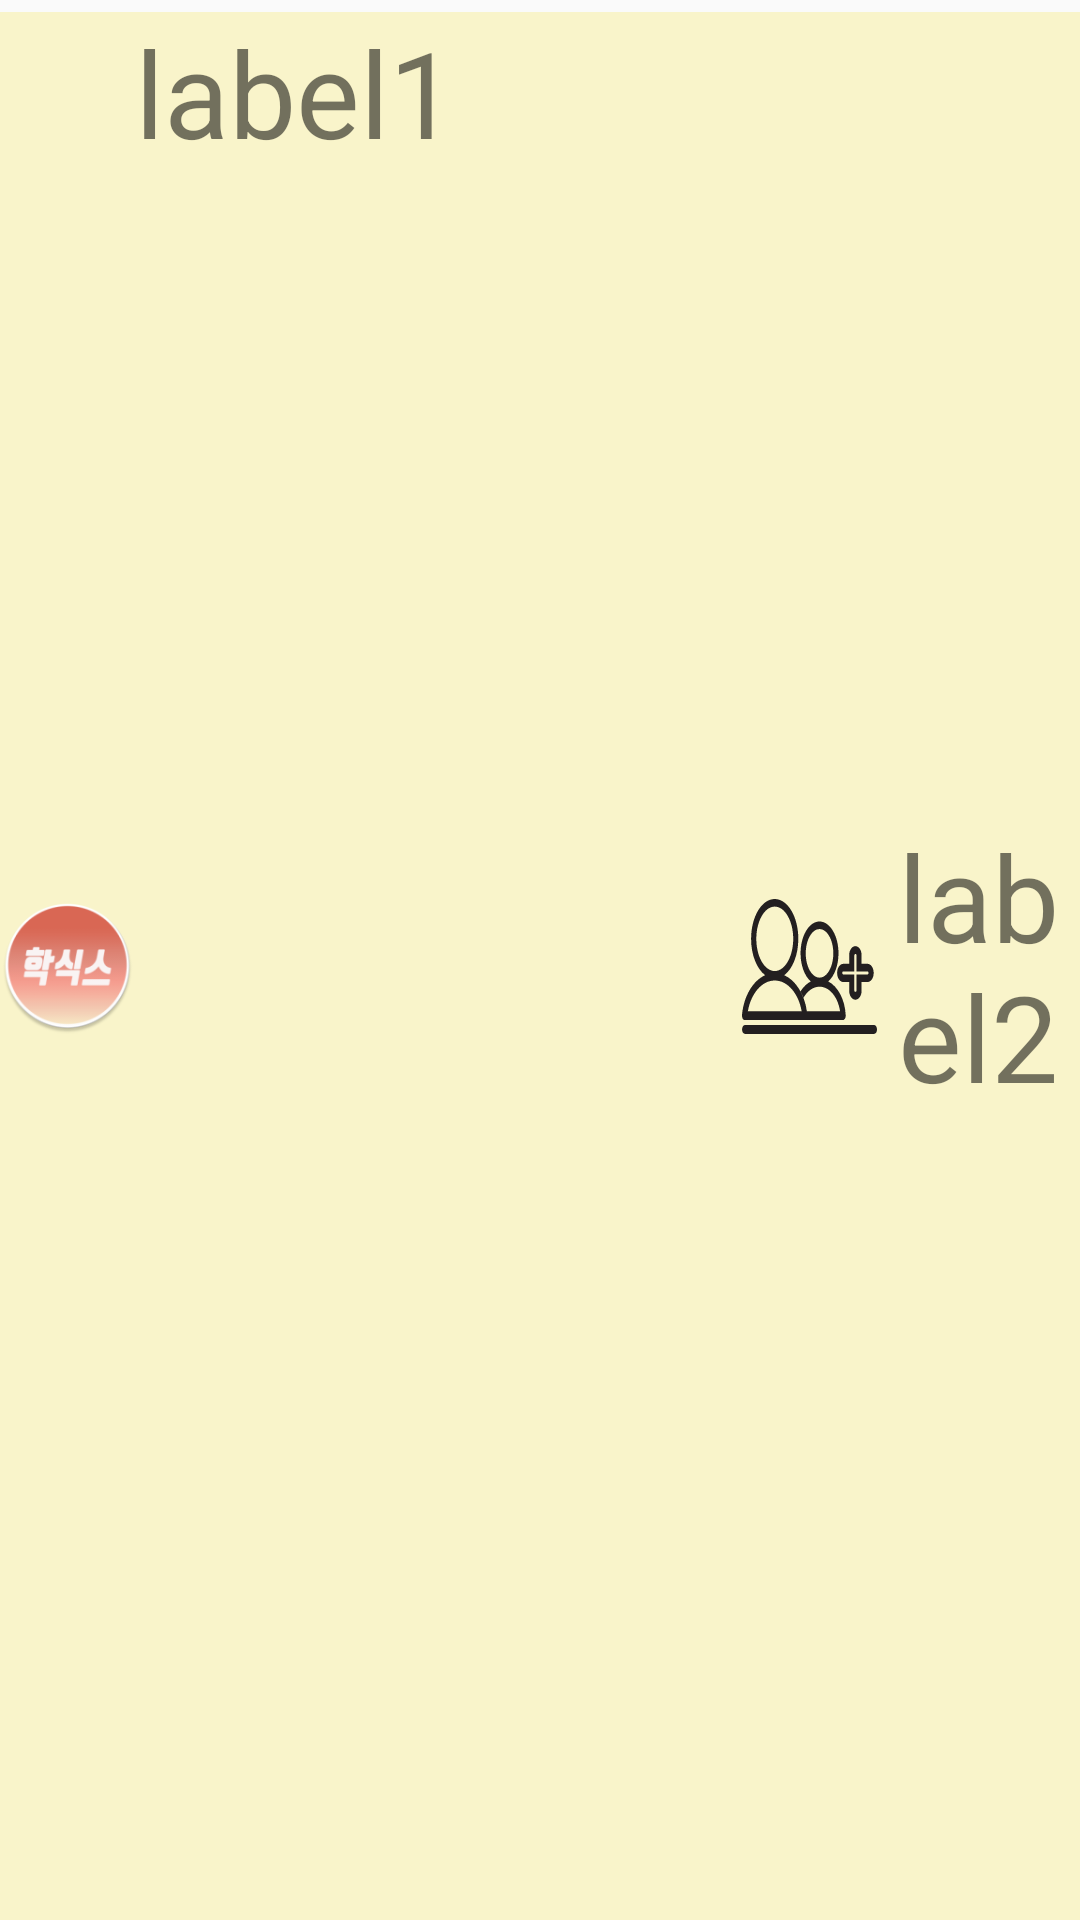

Named icons in this screenshot (1080w x 1920h) and their centers, (x,y):
peoples: (809,966)
